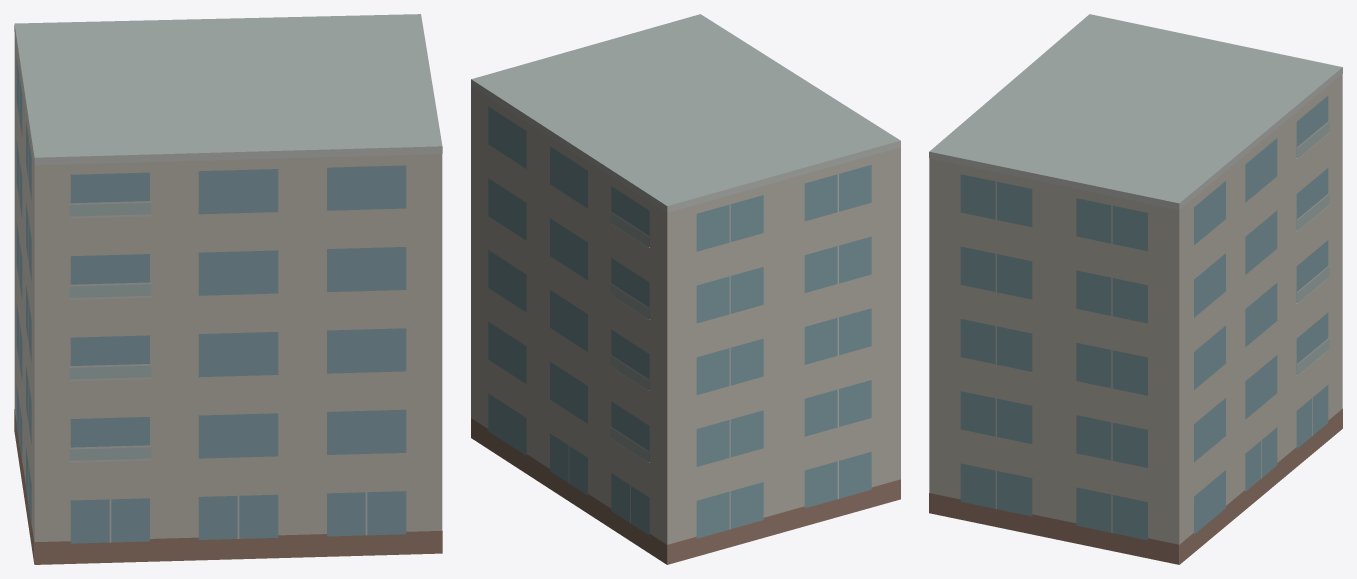
Rendered from survey-upis-32893402.glb.
3 renders of one model, left to right at view 1: azimuth 30°, elevation 25°; view 2: azimuth 150°, elevation 25°; view 3: azimuth 270°, elevation 25°, orthographic. The views are drawn at different scales.
Parts seen in each view (by area): view 1: survey-upis-32893402.tmp; view 2: survey-upis-32893402.tmp; view 3: survey-upis-32893402.tmp.
Boxes of the visible parts, bbox=[...] form: survey-upis-32893402.tmp: bbox=[14, 14, 442, 564]; survey-upis-32893402.tmp: bbox=[471, 14, 900, 564]; survey-upis-32893402.tmp: bbox=[929, 14, 1342, 564].
Bounding box in the file's own units: 14.84 × 13.2 × 13.7.
